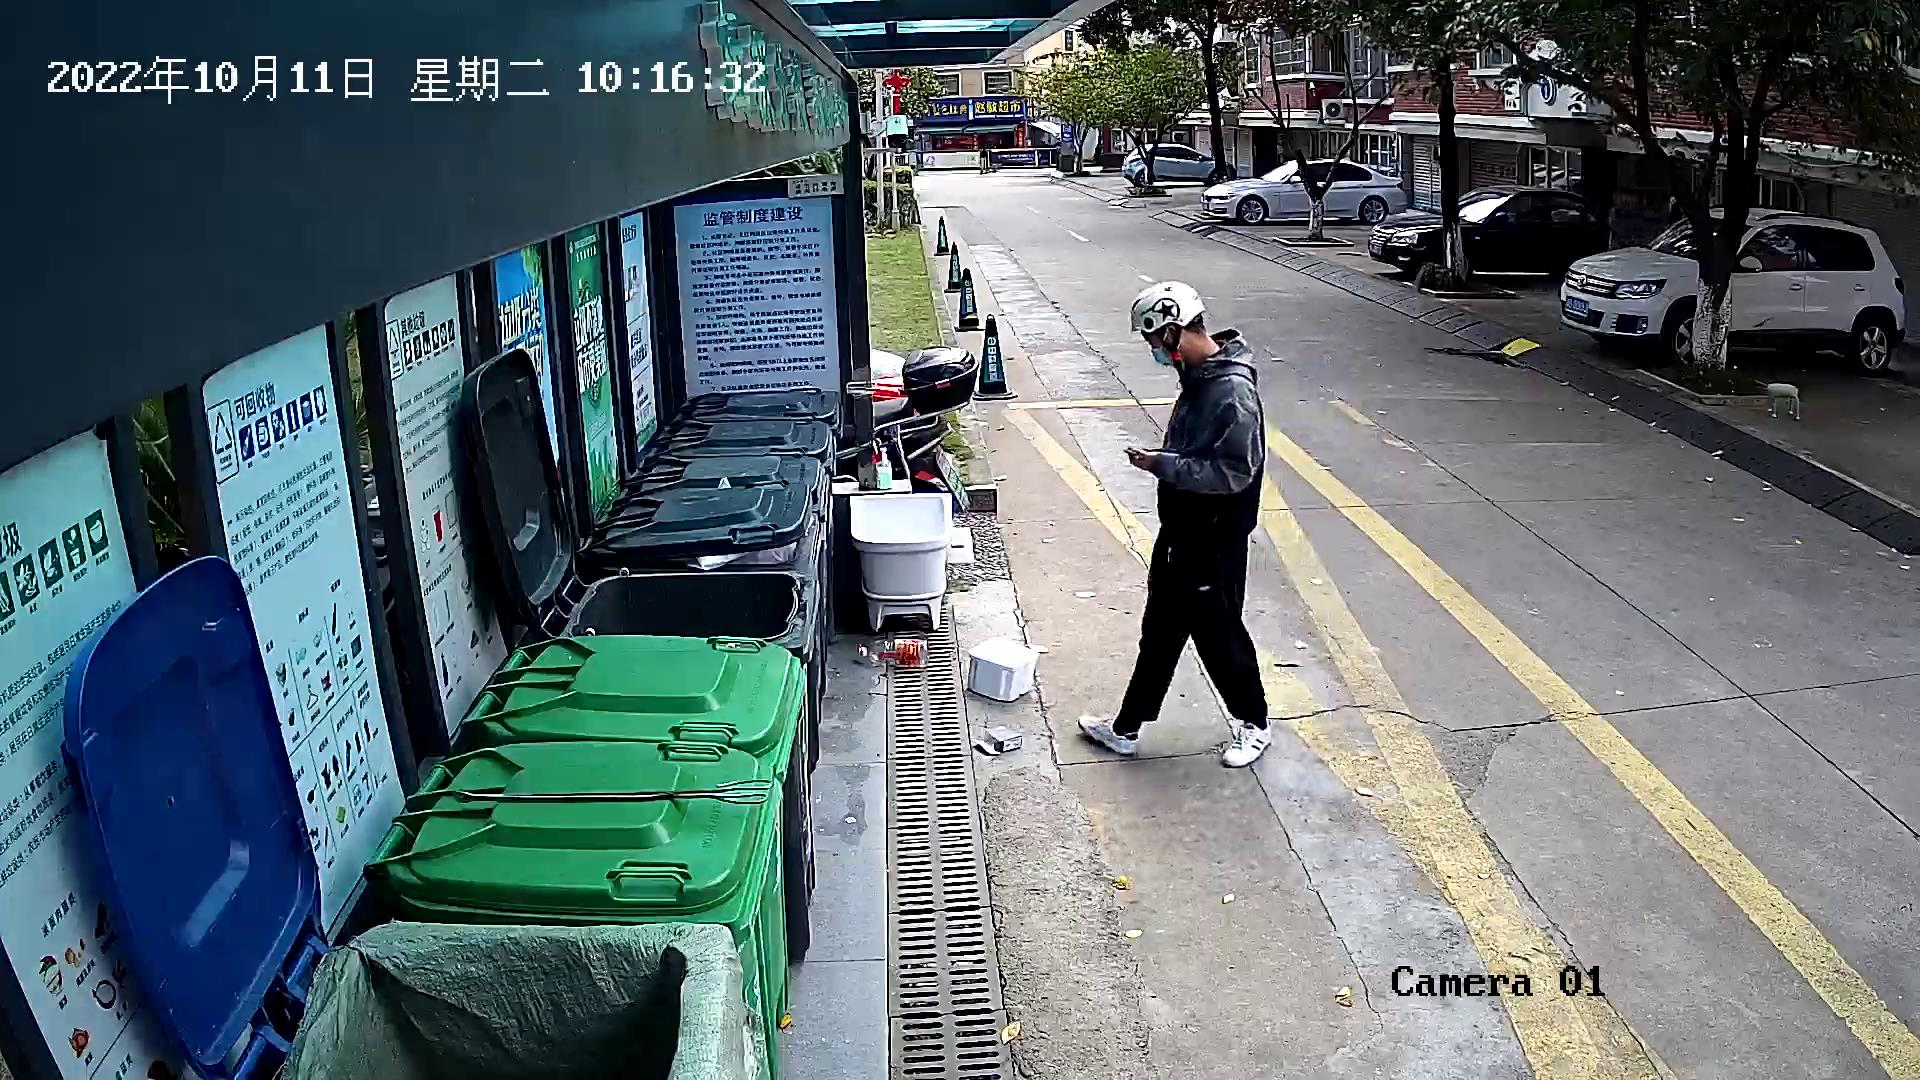paomozhipin: (954, 629, 1044, 705)
person: (1067, 276, 1287, 779)
suliaozhipin: (849, 625, 937, 677)
zhizhipin: (964, 720, 1029, 759)
